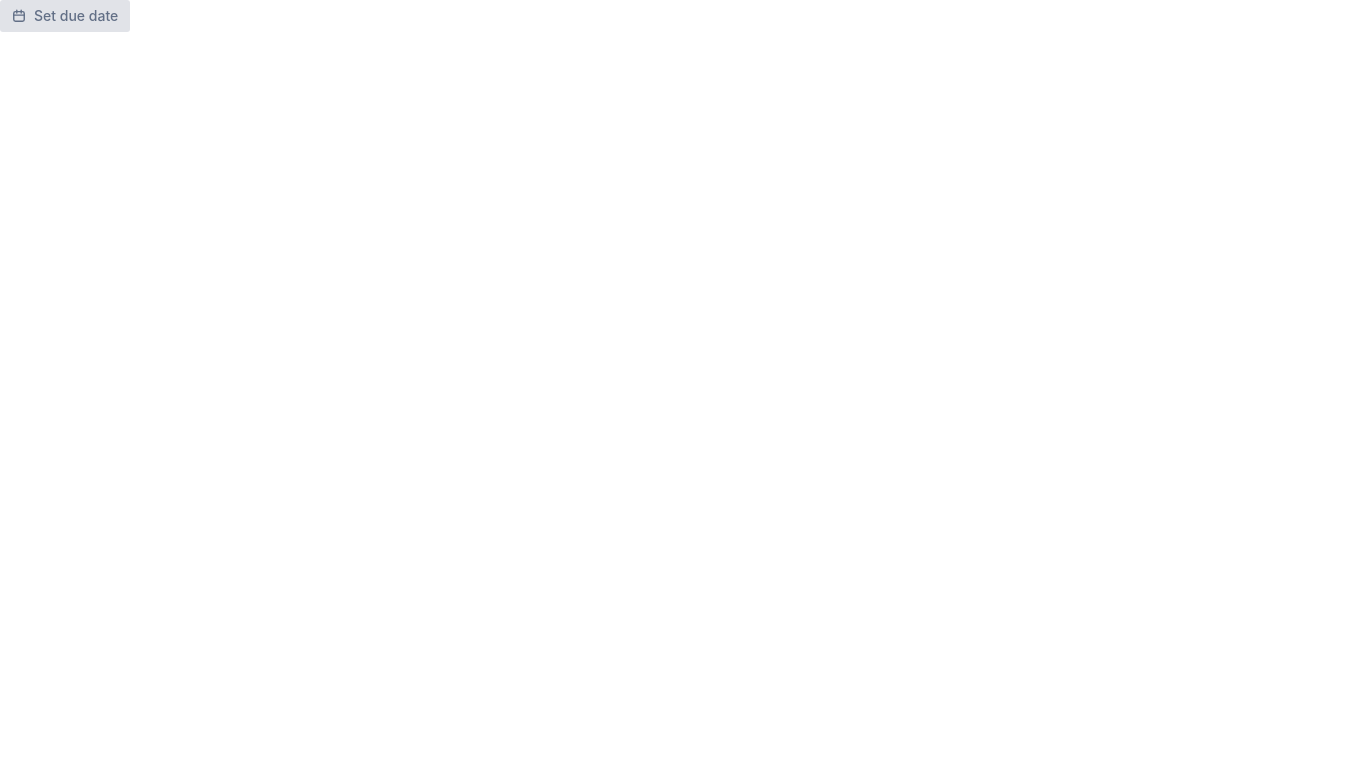
Test case: DateTimeField › moves between months, including across a year end
The image size is (1366, 768).
Click the button with aria-label "due date: ". click: point(65, 16)
box: [0,0,130,32]
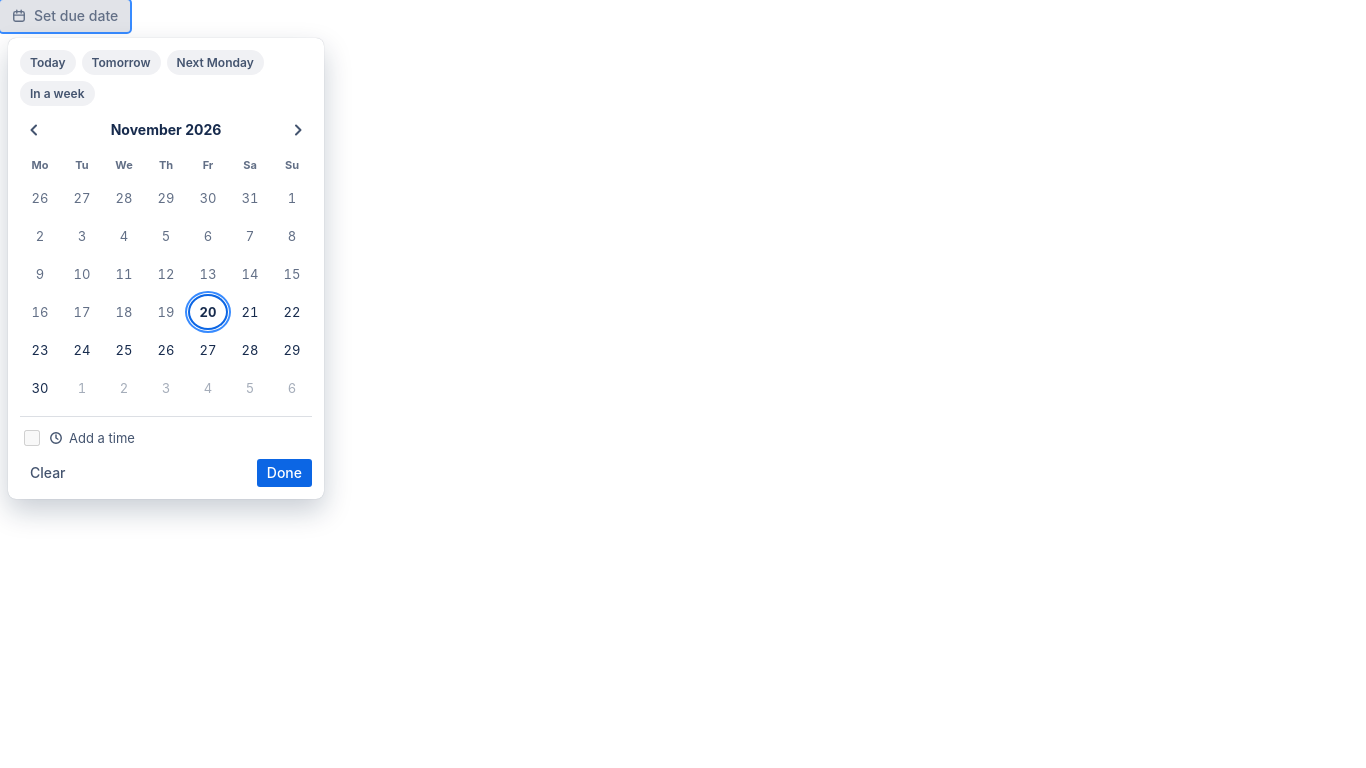
Click the button named "Next month". click: point(298, 130)
box: [284,116,312,144]
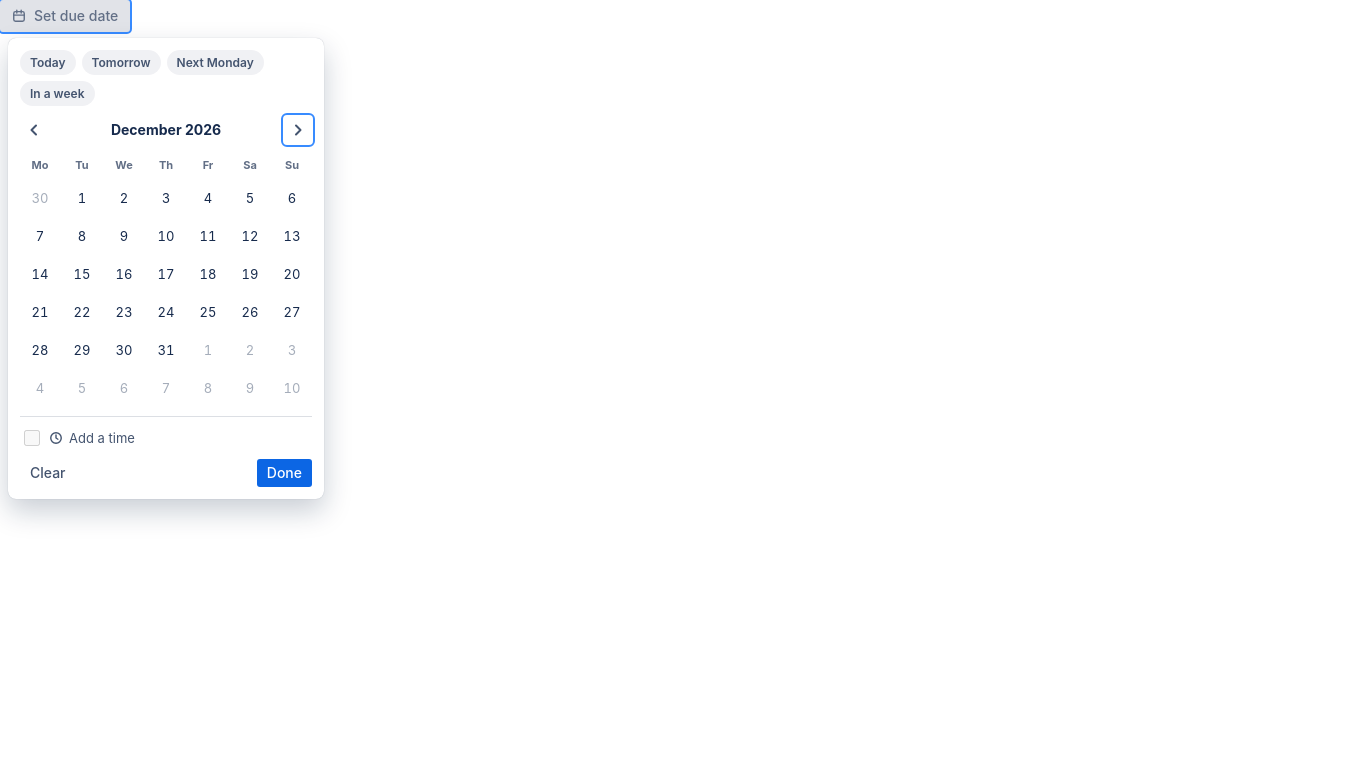
Click the button named "Next month". click: point(298, 130)
box: [284,116,312,144]
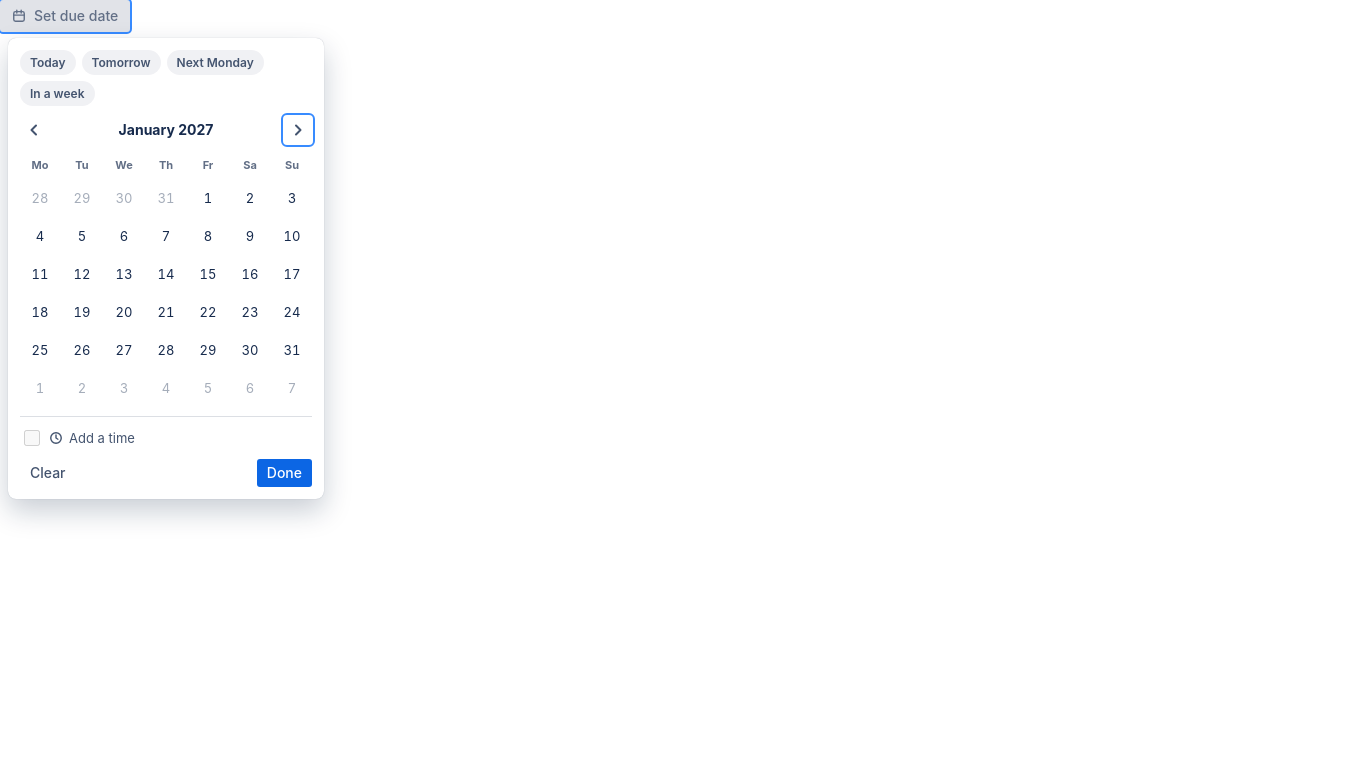
Now the text "January 2027" is shown, box [119,120,213,140]
Click the button named "Previous month". click: point(34, 130)
box: [20,116,48,144]
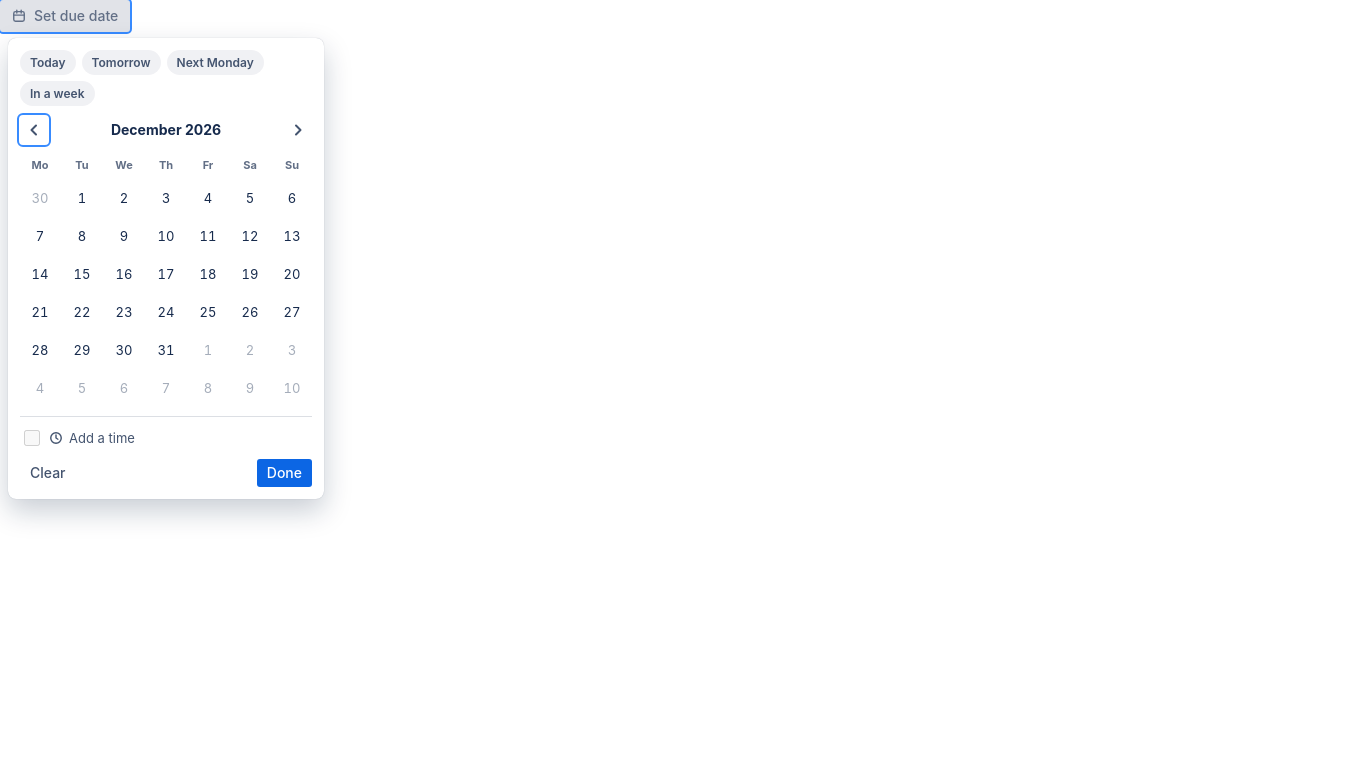
Now the text "December 2026" is shown, box [111,120,221,140]
